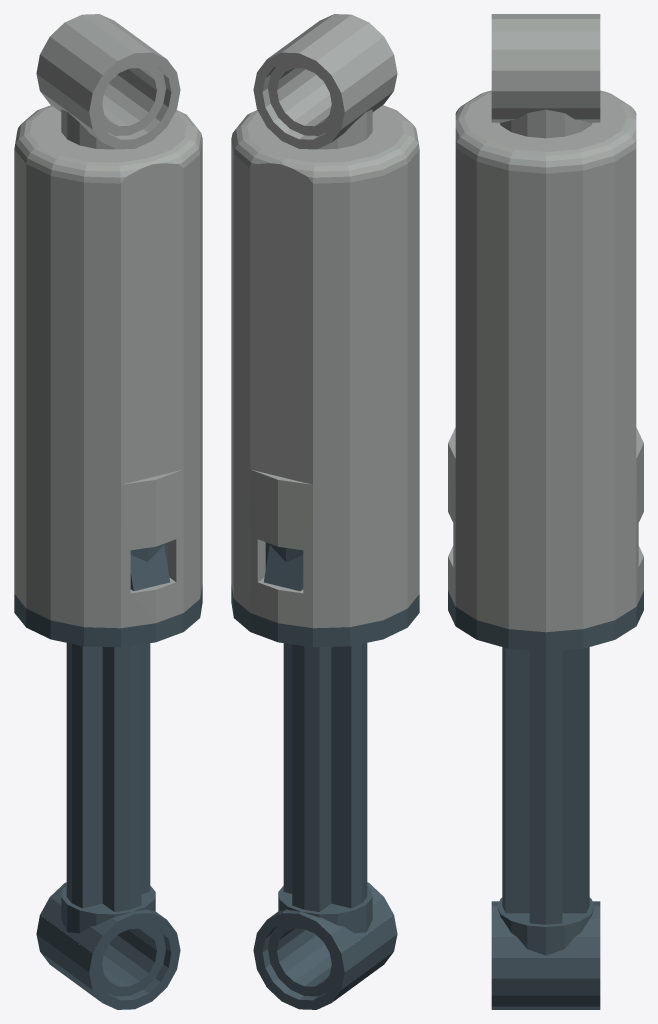
The picture shows the model from 3 angles, left to right: view 1: azimuth 30°, elevation 25°; view 2: azimuth 150°, elevation 25°; view 3: azimuth 270°, elevation 25°; orthographic projection. The views are drawn at different scales.
Visible parts, largest first — view 1: world; view 2: world; view 3: world.
Boxes of the visible parts, x1,y1,x2,y2 form: world: (14, 14, 202, 1009); world: (231, 14, 419, 1009); world: (448, 14, 643, 1009).
Bounding box in the file's own units: 0.0144 × 0.08 × 0.0144.
